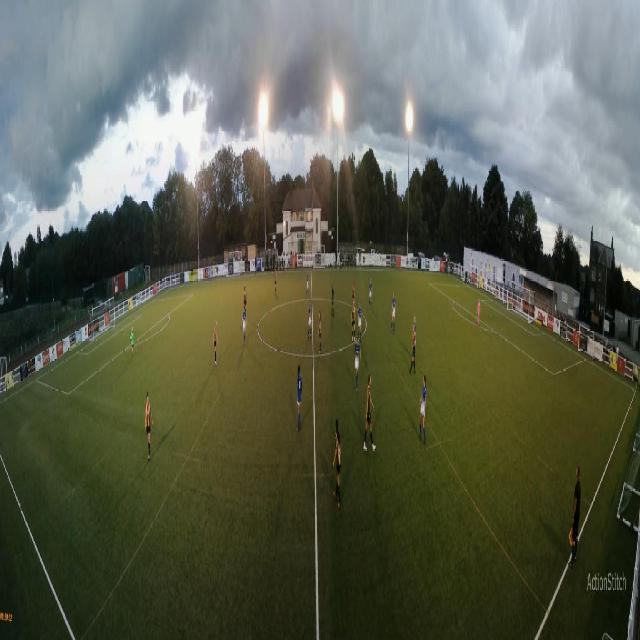ball: (130, 335, 132, 342)
player: (333, 416, 342, 508), (365, 368, 374, 450), (145, 390, 154, 462), (420, 373, 428, 441), (297, 365, 303, 436), (354, 336, 361, 395), (213, 318, 219, 365), (241, 306, 247, 347), (391, 291, 396, 333), (411, 326, 416, 368), (318, 308, 322, 356), (130, 325, 135, 361), (308, 299, 312, 341), (352, 300, 356, 342), (358, 301, 362, 342), (477, 296, 482, 326), (369, 279, 373, 313), (306, 269, 310, 298), (243, 285, 247, 313), (332, 283, 335, 317), (413, 316, 417, 341), (351, 277, 355, 301), (274, 267, 277, 295)
